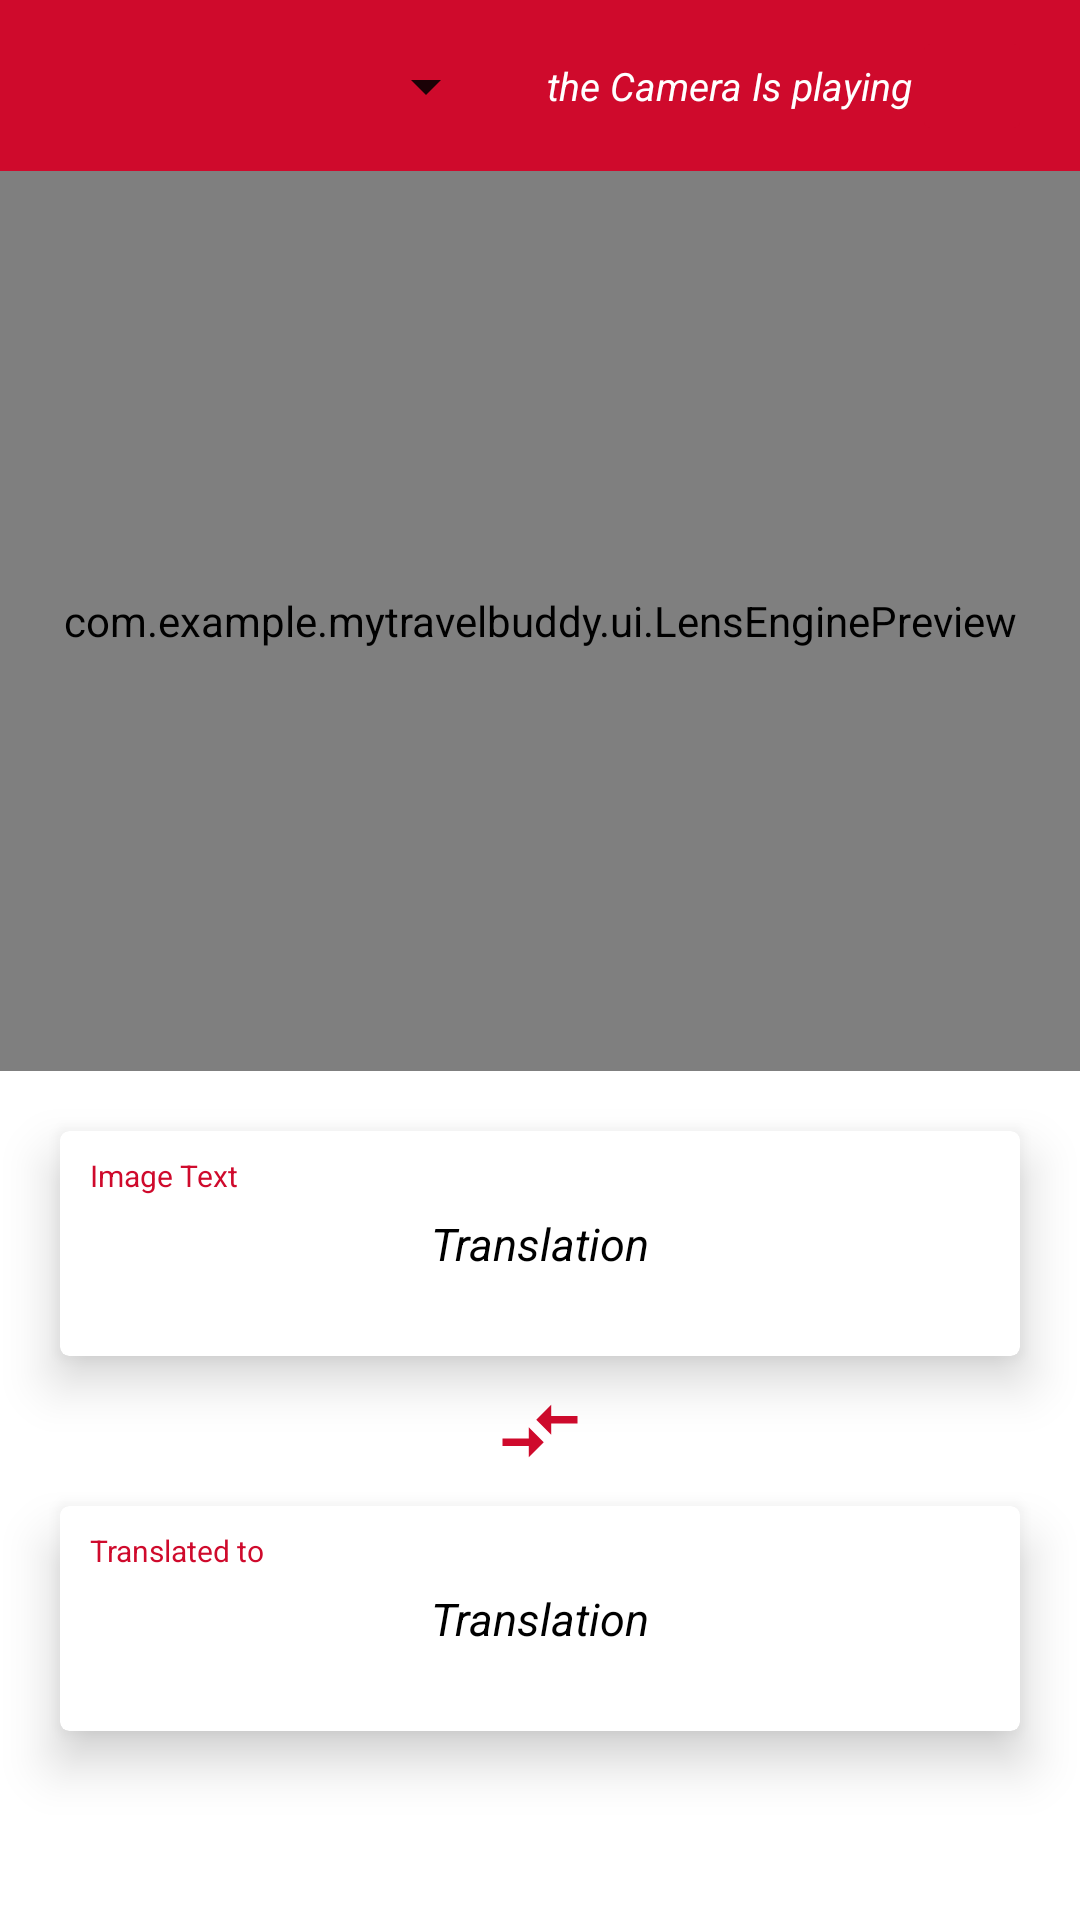

Icon bounding boxes for this 1080px x 1920px phone screenshot, format [x1=x1, y1=y1, x2=x2, y2=y2]:
compare arrows: [x1=502, y1=1405, x2=578, y2=1457]
